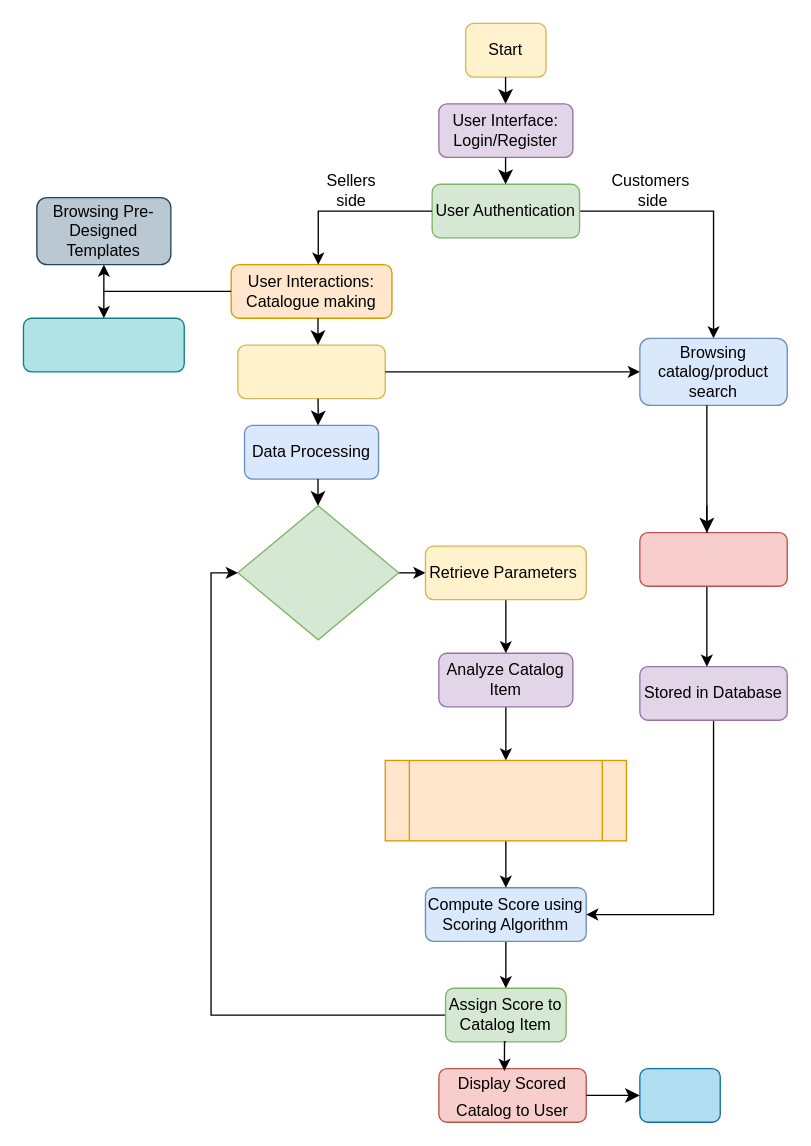
Some shapes in this 811 by 1146 pixel diagram are drawn without their labels. The shapes that lost their labels are listed below. From the top down, each one's box as (x1, y1, x2, y2) in pixels, then its label:
(22, 317, 184, 372): Design using Third-Party Apps
(237, 344, 385, 399): Catalog Retrieval
(237, 505, 399, 640): Loop through Catalog Items:
(639, 531, 787, 586): Feedback collection
(384, 759, 626, 841): Correctness, Completeness and Compliance Check
(639, 1067, 720, 1122): End
